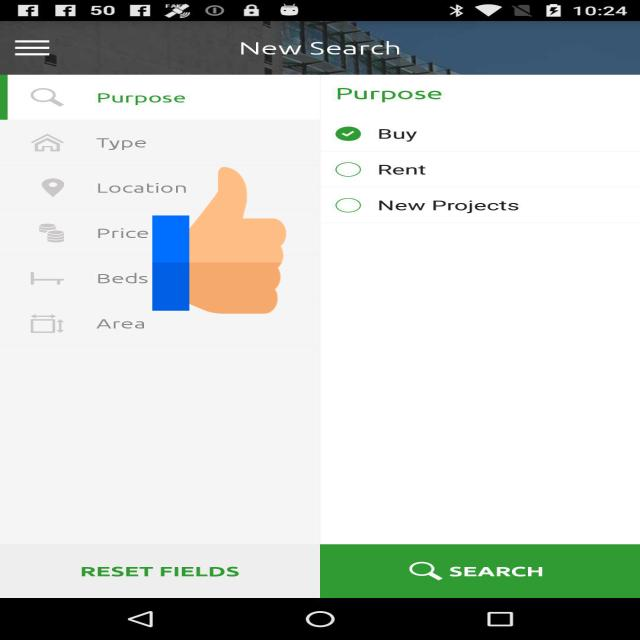privacy zuckering: (152, 164, 286, 318)
